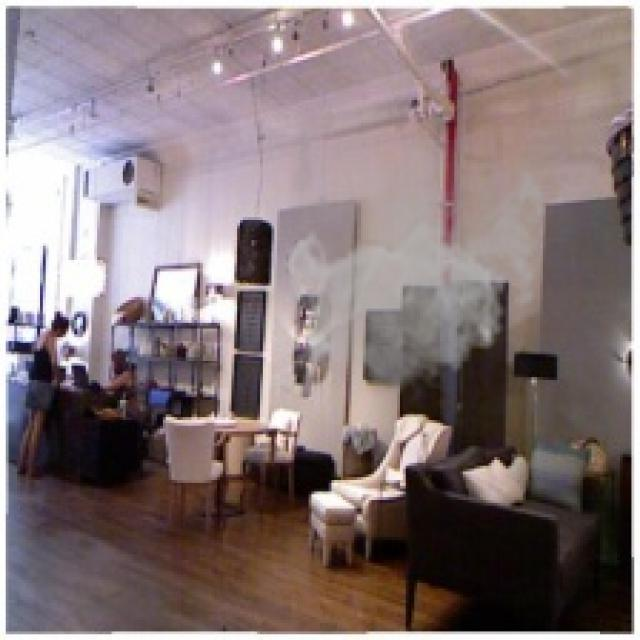Smoke: (280, 140, 554, 409)
